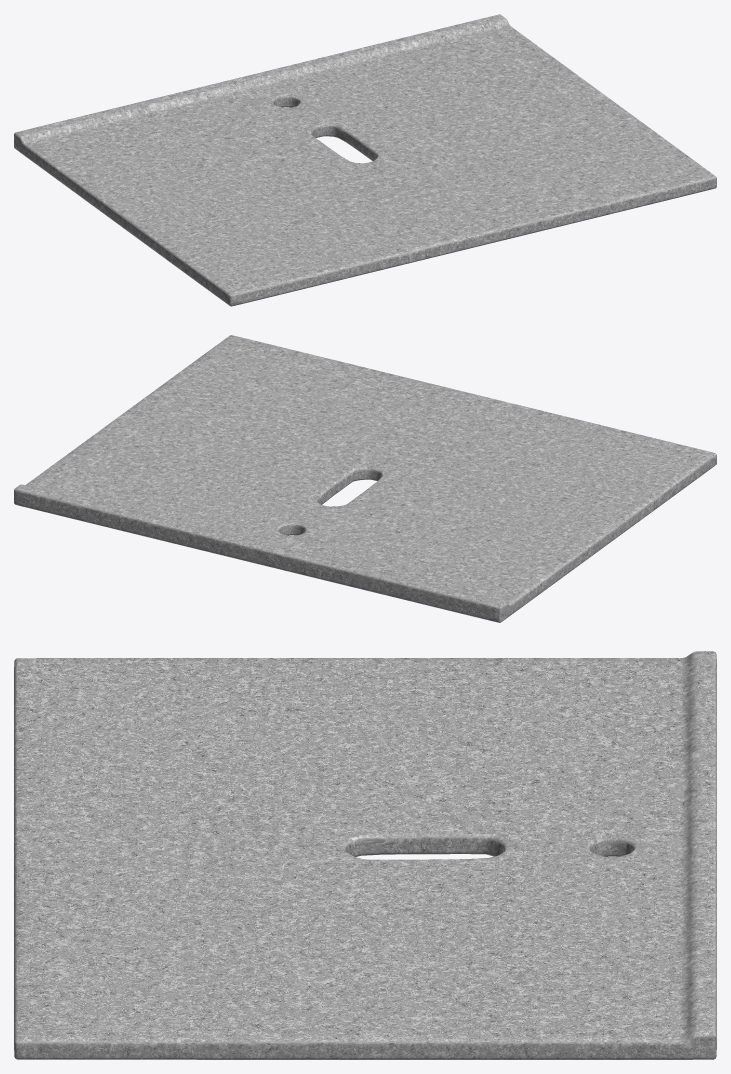
File: Quartzstone-countertop-lightcolour-600mm.glb
The picture shows the model from 3 angles, top to bottom: view 1: azimuth 30°, elevation 25°; view 2: azimuth 150°, elevation 25°; view 3: azimuth 270°, elevation 25°; orthographic projection. The views are drawn at different scales.
Visible parts, largest first — view 1: Plane.005; view 2: Plane.005; view 3: Plane.005.
Boxes of the visible parts, x1,y1,x2,y2 form: Plane.005: [14, 14, 716, 306]; Plane.005: [14, 335, 716, 622]; Plane.005: [14, 651, 716, 1059].
Bounding box in the file's own units: 0.6094 × 0.0201 × 0.4708.
Materials: 1 (1 with a texture image).
